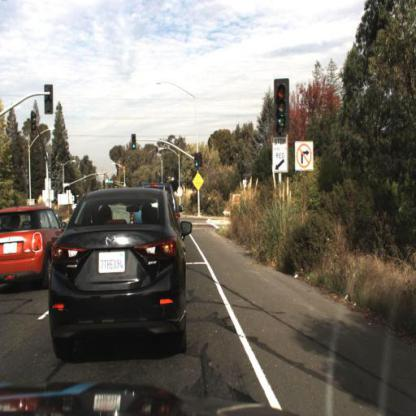car: (26, 182, 201, 384), (1, 195, 69, 301)
trafficLight: (273, 79, 293, 137), (131, 133, 139, 154), (194, 152, 201, 170)
trafficLight-Green: (266, 62, 297, 156), (129, 129, 141, 158), (193, 148, 203, 177)
